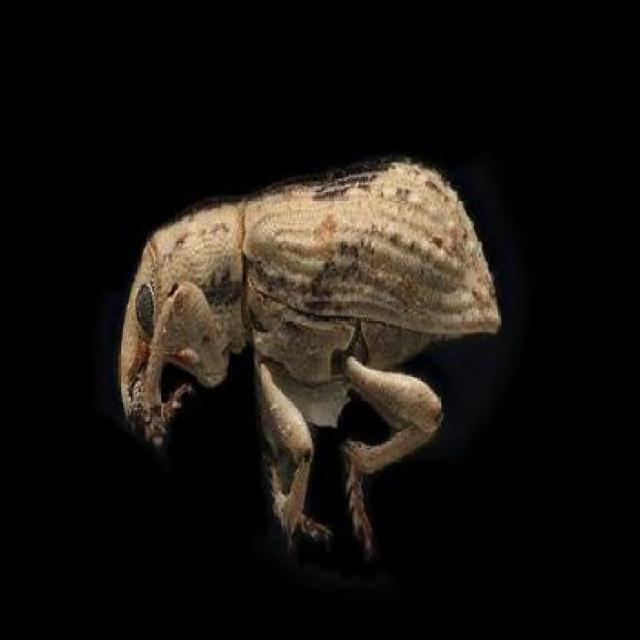rice-bug: (118, 157, 490, 528)
